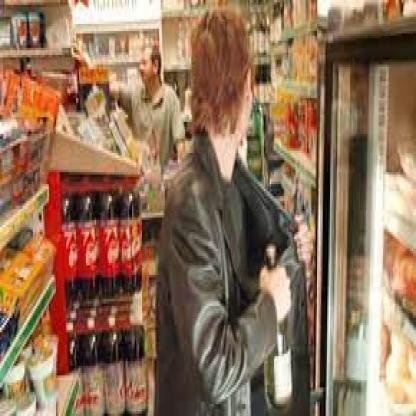Shoplifting: (178, 105, 365, 416)
